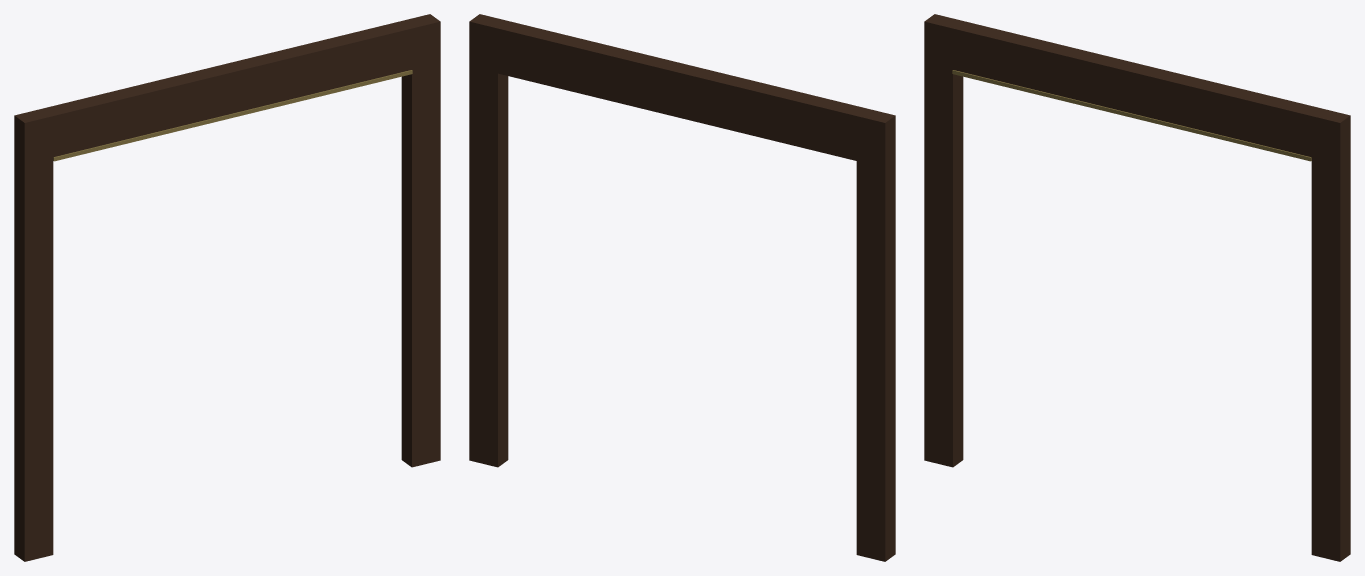
Rendered from door_portal.glb.
The picture shows the model from 3 angles, left to right: view 1: azimuth 30°, elevation 25°; view 2: azimuth 150°, elevation 25°; view 3: azimuth 330°, elevation 25°; orthographic projection.
Parts seen in each view (by area): view 1: Dintel, Jamba, Jamba.001, Filete; view 2: Dintel, Jamba, Jamba.001; view 3: Dintel, Jamba.001, Jamba, Filete.
Part boxes in pixels (x1,y1,x2,y2): Dintel: (43,21,411,157); Jamba: (14,108,53,561); Jamba.001: (401,14,440,467); Filete: (53,70,412,161); Dintel: (498,21,866,160); Jamba: (856,108,895,561); Jamba.001: (469,14,508,467); Dintel: (953,21,1321,157); Jamba.001: (1311,108,1350,561); Jamba: (924,14,963,467); Filete: (952,70,1311,161).
Bounding box in the file's own units: 2.32 × 2.34 × 0.106.
